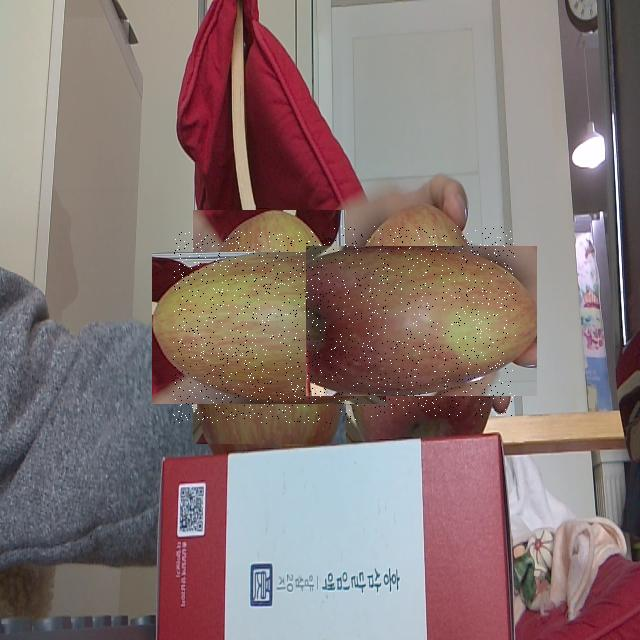apple: (173, 231, 366, 424), (326, 226, 516, 417)
